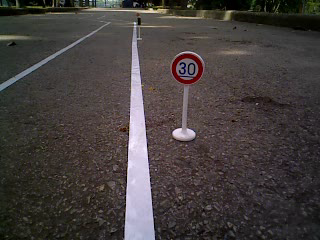limit 30: (170, 50, 205, 88)
